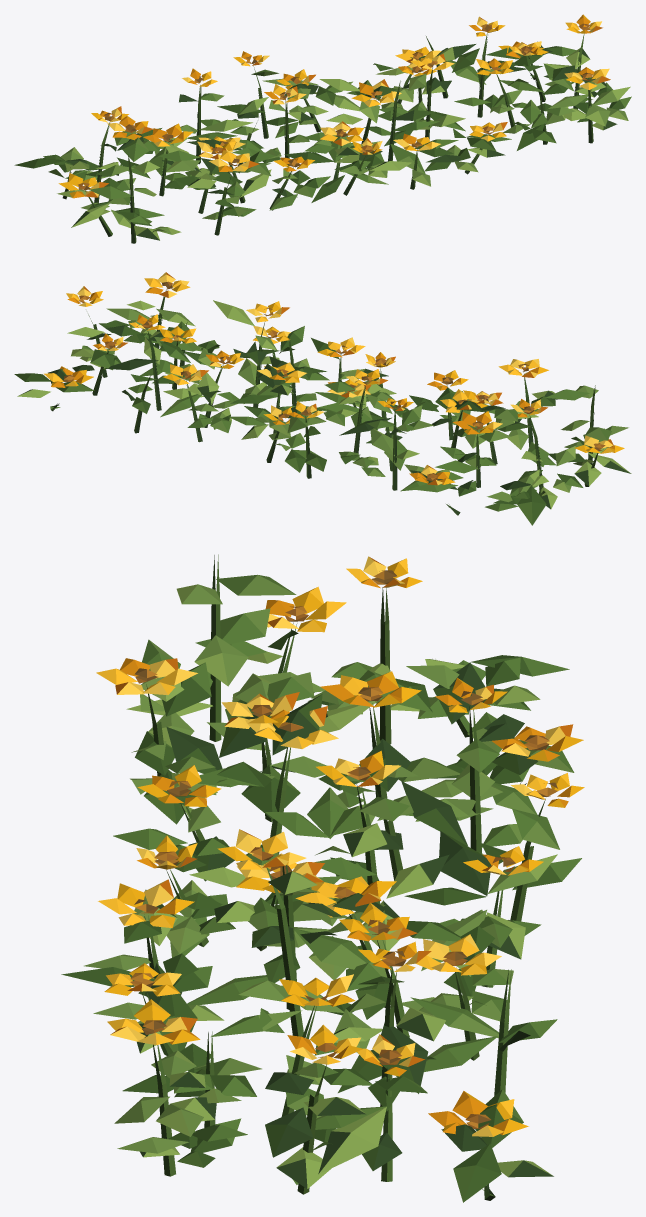
File: wsc-prop-014-far-planting.glb
3 views of the same model, one above another, from view 1: azimuth 30°, elevation 25°; view 2: azimuth 150°, elevation 25°; view 3: azimuth 270°, elevation 25° (orthographic). The views are drawn at different scales.
Parts seen in each view (by area): view 1: Far insert | broad serrated-look folded foliage, Far insert | golden tickseed blossoms, Far insert | resilient stems, Far insert | contrasting flower discs; view 2: Far insert | broad serrated-look folded foliage, Far insert | golden tickseed blossoms, Far insert | resilient stems, Far insert | contrasting flower discs; view 3: Far insert | broad serrated-look folded foliage, Far insert | golden tickseed blossoms, Far insert | resilient stems, Far insert | contrasting flower discs.
Part boxes in pixels (bbox=[...]): Far insert | broad serrated-look folded foliage: bbox=[14, 41, 631, 240]; Far insert | golden tickseed blossoms: bbox=[58, 14, 610, 198]; Far insert | resilient stems: bbox=[62, 33, 593, 243]; Far insert | contrasting flower discs: bbox=[78, 23, 593, 190]; Far insert | broad serrated-look folded foliage: bbox=[14, 300, 631, 525]; Far insert | golden tickseed blossoms: bbox=[44, 272, 624, 485]; Far insert | resilient stems: bbox=[50, 290, 598, 515]; Far insert | contrasting flower discs: bbox=[63, 281, 605, 481]; Far insert | broad serrated-look folded foliage: bbox=[61, 574, 581, 1202]; Far insert | golden tickseed blossoms: bbox=[96, 556, 584, 1136]; Far insert | resilient stems: bbox=[141, 554, 545, 1200]; Far insert | contrasting flower discs: bbox=[130, 570, 557, 1128].
Bounding box in the file's own units: 3.88 × 0.662 × 1.55.
